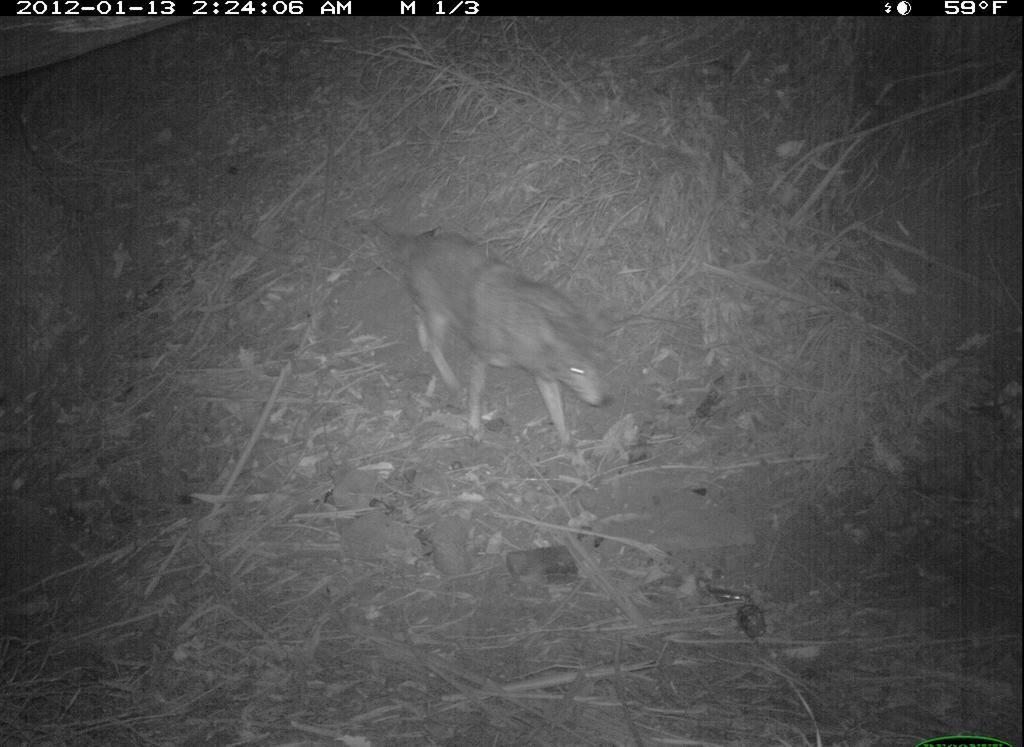coyote: (365, 211, 626, 463)
